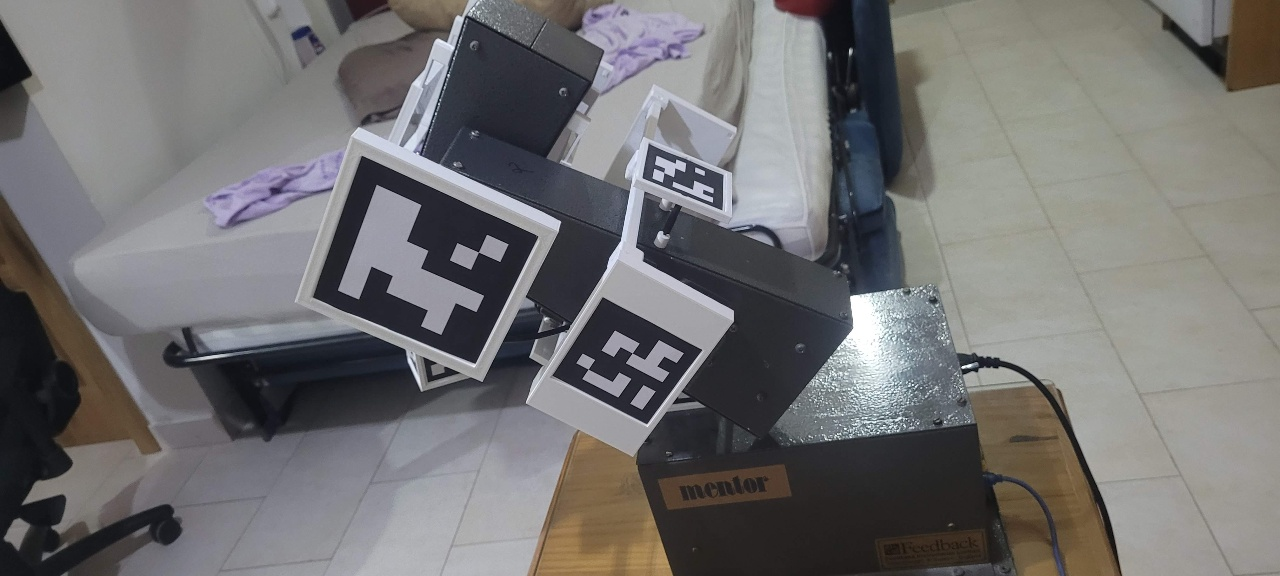Robot: (291, 1, 853, 463)
